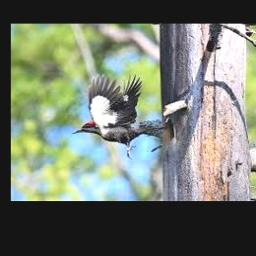Woodpecker: (71, 74, 167, 159)
